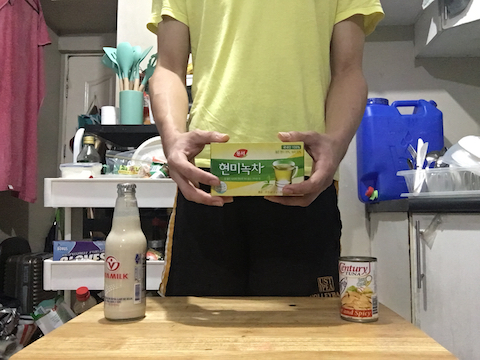bottle: (98, 179, 152, 325)
box: (207, 136, 309, 202)
can: (336, 254, 380, 323)
grab: (166, 125, 235, 211), (269, 129, 332, 212)
